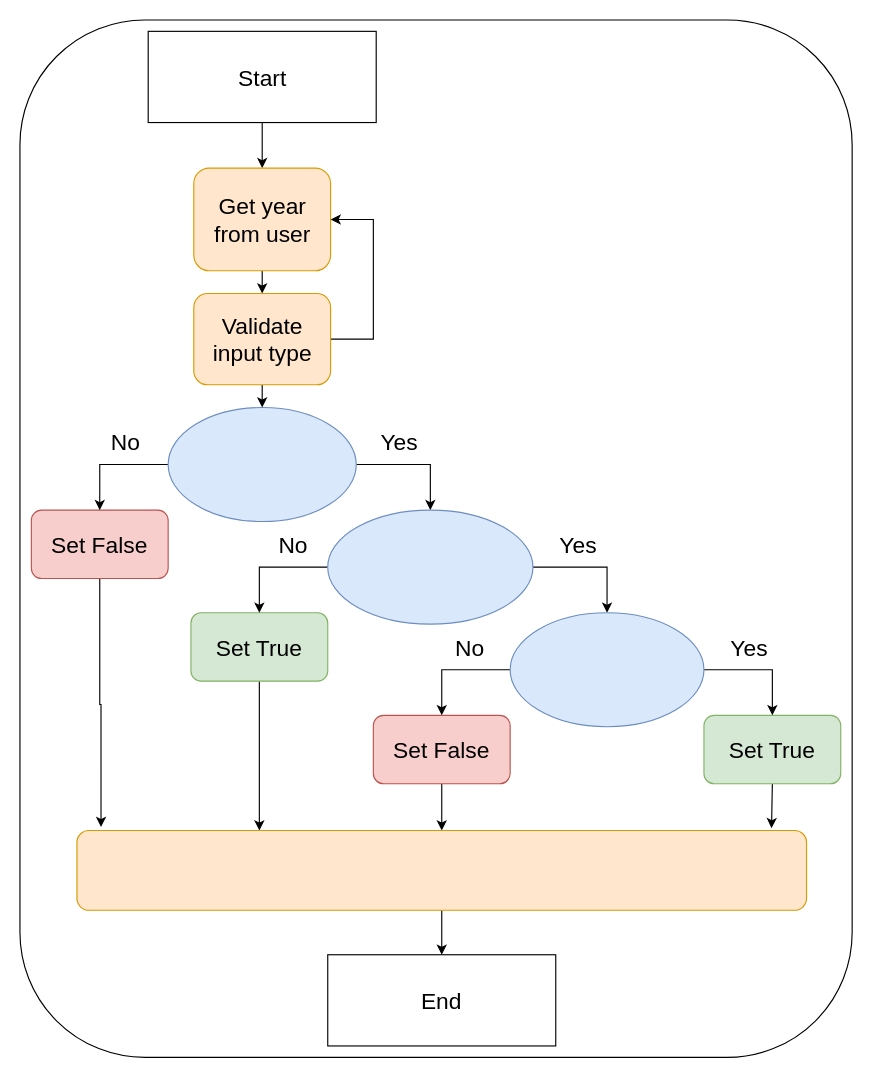
This 872x1077 diagram has some shape labels left out. The shapes that lost their labels are listed below. From the top down, each one's centre as x and y in pixels, then its label:
At (261,464): "Is year evenly divisible by 4?".
At (430,566): "Is year evenly divisible by 100?".
At (606,669): "Is year evenly divisible by 400?".
At (441,869): "Print answer".
